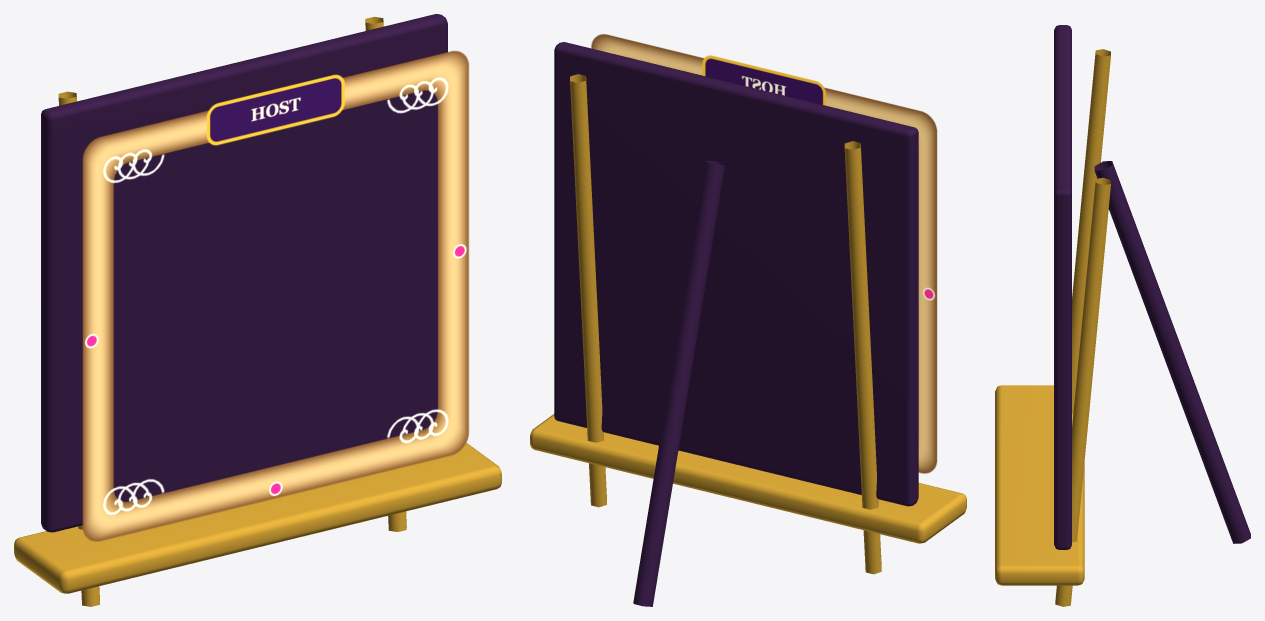
The model's file is prime.frame.room-host.glb.
The picture shows the model from 3 angles, left to right: view 1: azimuth 30°, elevation 25°; view 2: azimuth 150°, elevation 25°; view 3: azimuth 270°, elevation 25°; orthographic projection. The views are drawn at different scales.
Parts seen in each view (by area): view 1: print_support, artwork, shelf_lip; view 2: print_support, shelf_lip, artwork, back_leg, easel_leg, easel_leg.001; view 3: shelf_lip, print_support, back_leg, easel_leg.001, easel_leg.
Boxes of the visible parts, <box> form: print_support: <box>41,14,447,532</box>; artwork: <box>82,50,468,541</box>; shelf_lip: <box>14,442,501,593</box>; print_support: <box>554,42,918,506</box>; shelf_lip: <box>530,414,966,543</box>; artwork: <box>591,34,937,473</box>; back_leg: <box>633,160,724,606</box>; easel_leg: <box>844,141,881,574</box>; easel_leg.001: <box>570,74,606,507</box>; shelf_lip: <box>995,385,1084,585</box>; print_support: <box>1054,25,1071,549</box>; back_leg: <box>1094,161,1250,543</box>; easel_leg.001: <box>1055,177,1110,606</box>; easel_leg: <box>1072,49,1110,413</box>.
Bounding box in the file's own units: 0.6764 × 0.75 × 0.3946.
3 materials, 1 textured.
